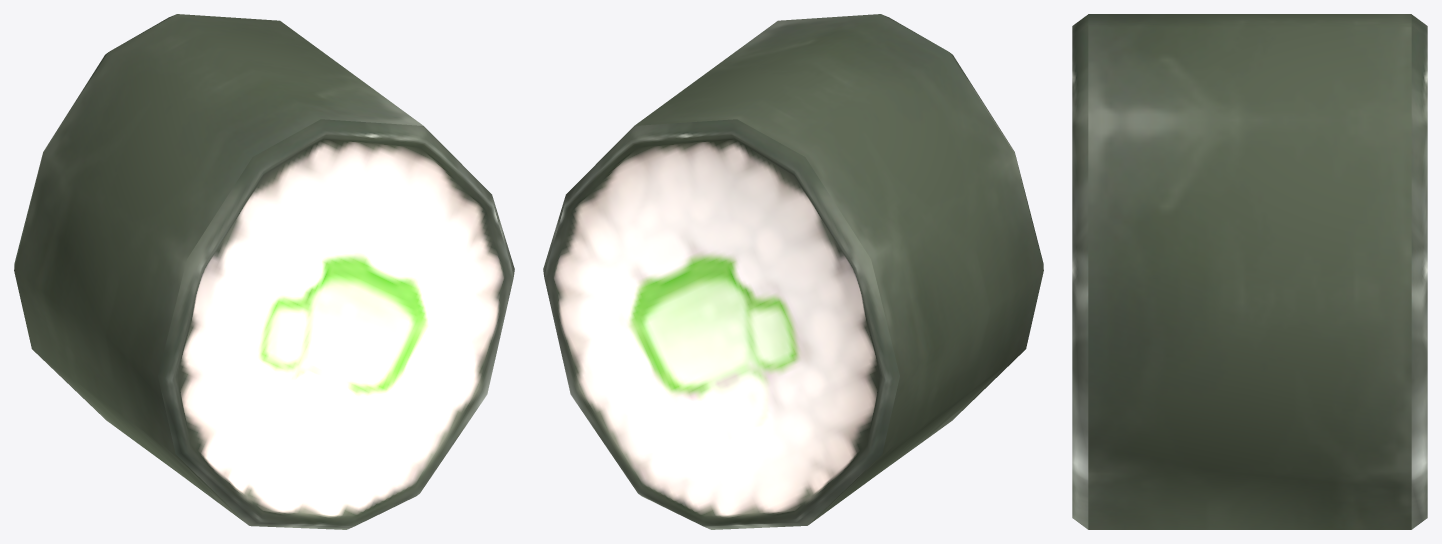
The model's file is white_makisushi.glb.
The picture shows the model from 3 angles, left to right: view 1: azimuth 30°, elevation 25°; view 2: azimuth 150°, elevation 25°; view 3: azimuth 270°, elevation 25°; orthographic projection. The views are drawn at different scales.
Visible parts, largest first — view 1: White_MakiSushi; view 2: White_MakiSushi; view 3: White_MakiSushi.
Boxes of the visible parts, x1,y1,x2,y2 form: White_MakiSushi: (14, 14, 514, 529); White_MakiSushi: (543, 14, 1043, 529); White_MakiSushi: (1072, 14, 1427, 529).
Size of the model in its own units: 0.4762 by 0.5316 by 0.3655.
1 material, 1 textured.
